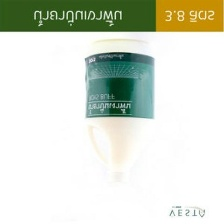cleaning_solution: (74, 33, 161, 194)
